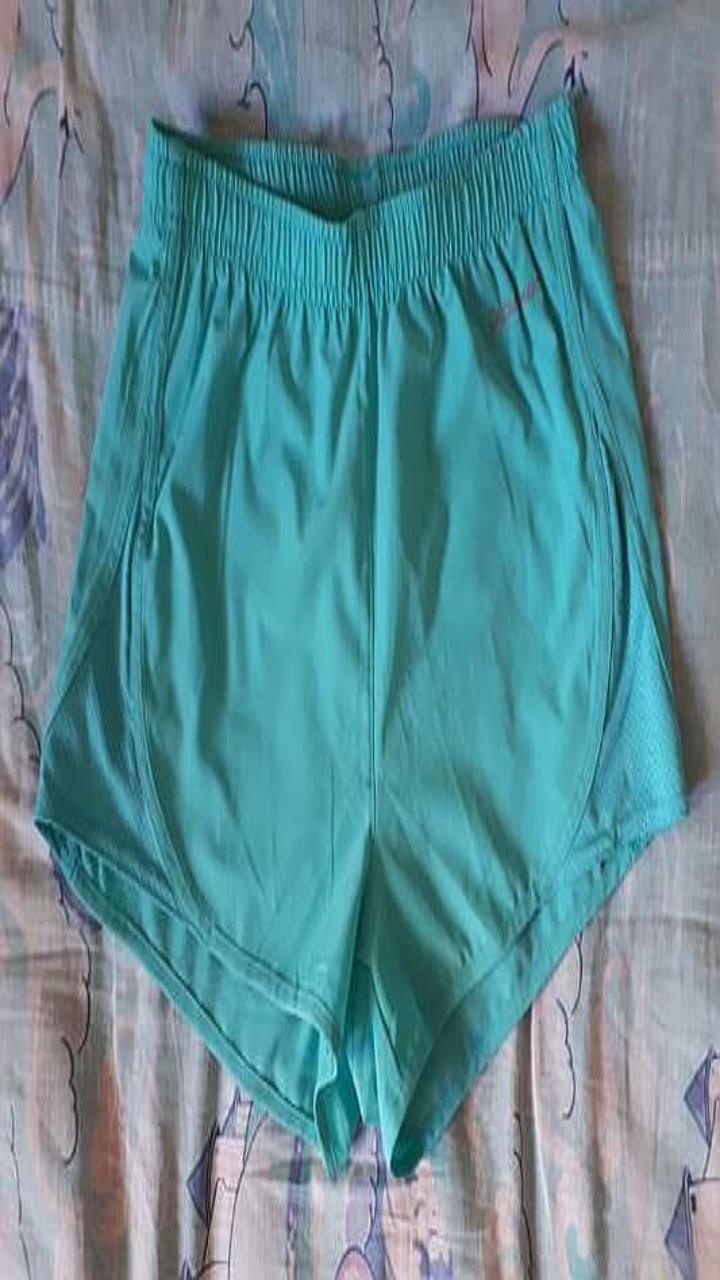Shorts: (35, 97, 685, 1173)
